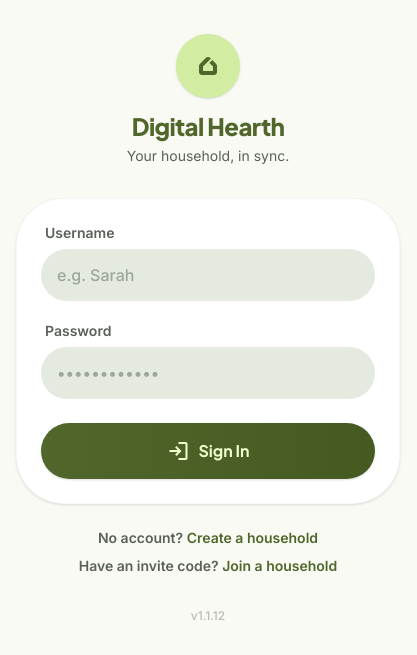
Test: Login › shows an error message when login throws
Step 1. Type "Sarah" into the field labelled "Username" → [208, 275], box x1=41 y1=249 x2=375 y2=301
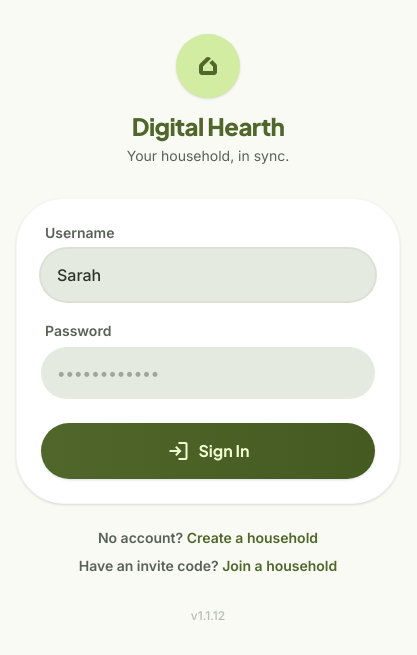
Step 2. Type "wrong" into the password field labelled "Password" → [208, 373], box x1=41 y1=347 x2=375 y2=399
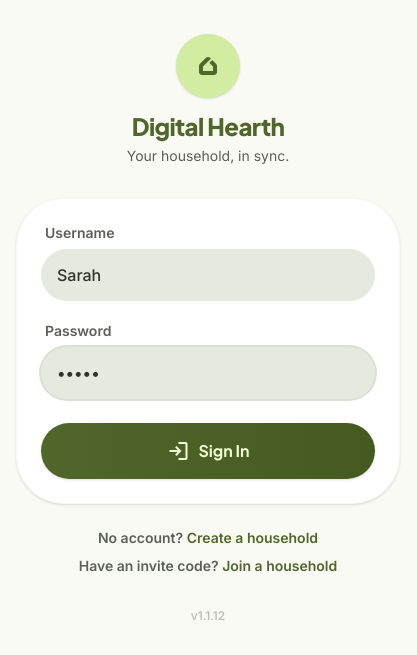
Step 3. Click the button "Sign In" → [208, 451], box x1=41 y1=423 x2=375 y2=479
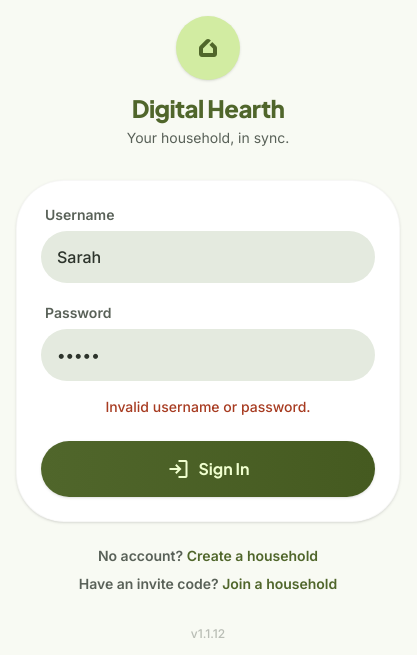
Check: the text "Invalid username or password." is shown, box x1=105 y1=398 x2=311 y2=415
